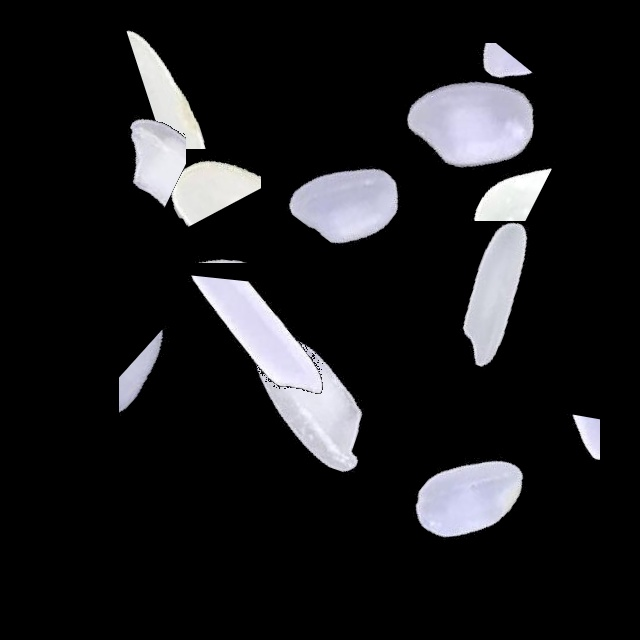Broken: (174, 232, 325, 482), (85, 25, 335, 149), (62, 24, 186, 274), (119, 273, 228, 523), (354, 43, 604, 136), (171, 36, 261, 286), (75, 174, 325, 263), (375, 139, 625, 221), (521, 327, 600, 577), (304, 113, 554, 190)
Full: (343, 372, 593, 622), (183, 278, 433, 528), (224, 74, 474, 324), (343, 0, 593, 250), (370, 169, 620, 419)
